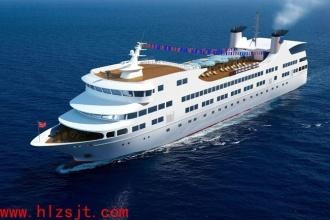youlun: (28, 25, 314, 169)
